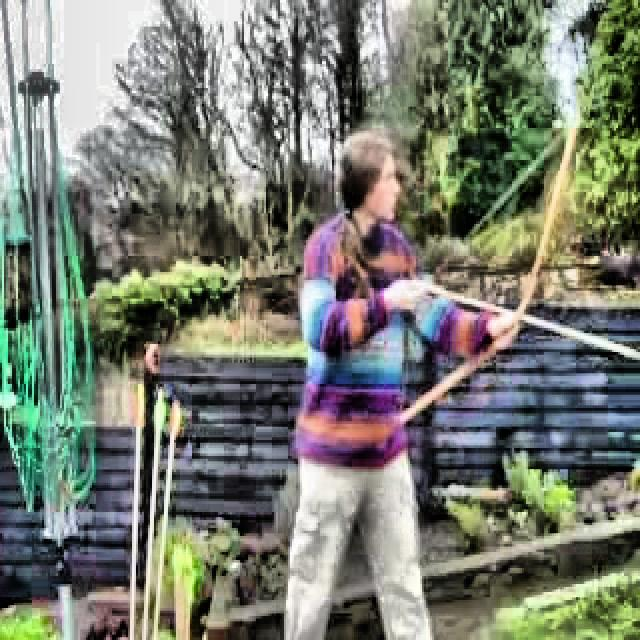I: (284, 121, 537, 640)
